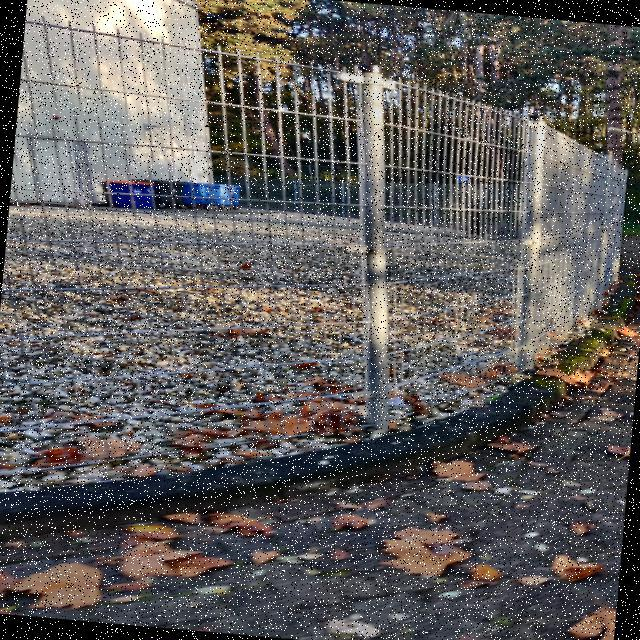fence line: (0, 29, 381, 571), (303, 104, 619, 463)
